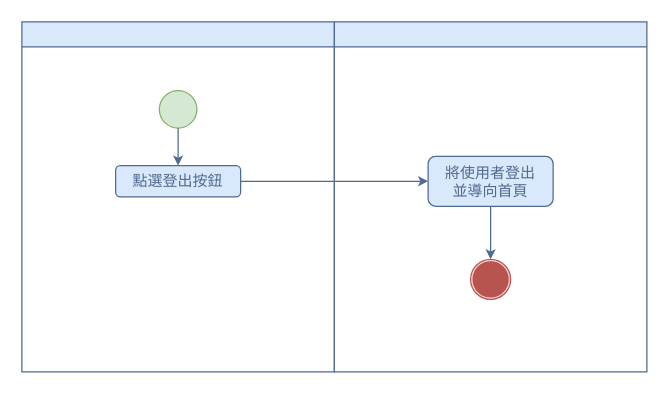
The diagram is 669 pixels wide and 394 high, and some of its shapes have lost their labels. The shapes that lost their labels are listed below. From the top down, each one's box as (x1, y1, x2, y2) in pixels, then its label:
(21, 21, 334, 372): 動作者
(333, 21, 647, 372): 系統
